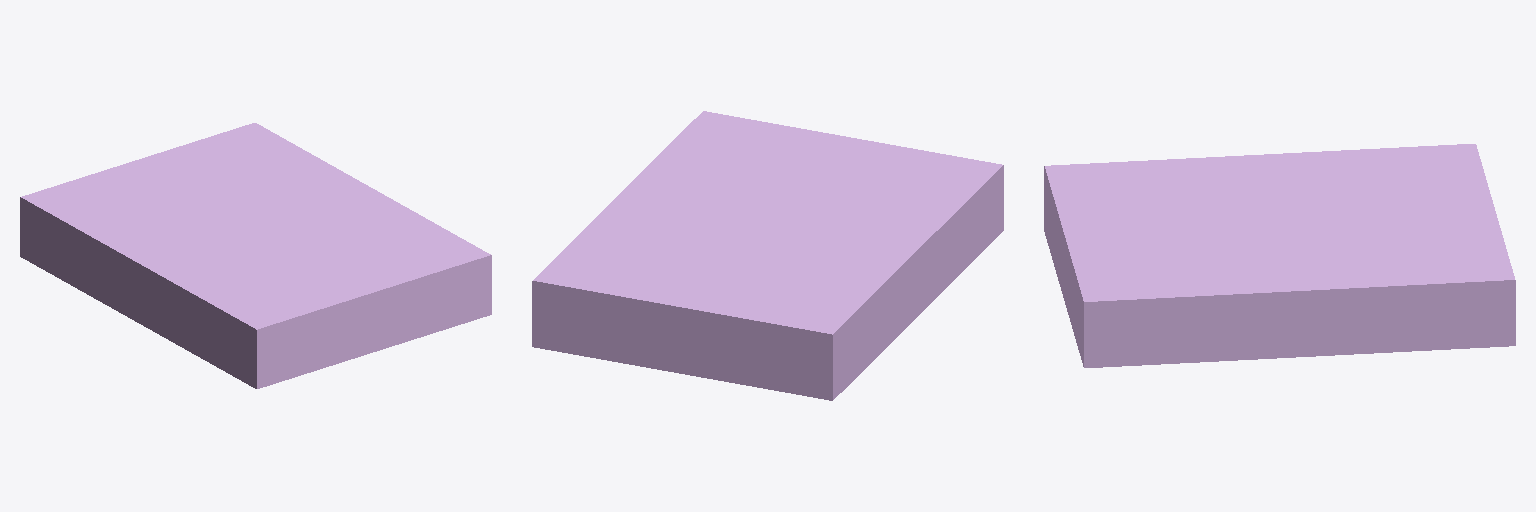
URDF robot description (Interference):
<?xml version="1.0"?>
<robot name="Interference">
  <link name="baseLink">
    <inertial>
      <origin xyz="0.0 0.0 0.0" rpy="0.0 0.0 0.0"/>
      <inertia ixx="0.0" ixy="0.0" ixz="0.0" iyy="0.0" iyz="0.0" izz="0.0"/>
      <mass value="0"/>
    </inertial>
    <visual>
      <origin xyz="0.0 0.0 0.0" rpy="0.0 0.0 -1.4489782257590922"/>
      <geometry>
        <box size="0.059465380220623976 0.04446894301128189 0.01"/>
      </geometry>
      <material name="color">
        <color rgba="0.9108075647775571 0.784072227802363 0.9677374000451617 1.0"/>
      </material>
    </visual>
  </link>
</robot>

--- Render facts (derived) ---
3 views of the same robot in one strip: view 1: azimuth 30°, elevation 25°; view 2: azimuth 150°, elevation 25°; view 3: azimuth 270°, elevation 25° (orthographic).
Model Interference with 1 links and 0 joints (none), rooted at baseLink, posed all joints at 0.
Visible links, largest first — view 1: baseLink; view 2: baseLink; view 3: baseLink.
Boxes of the visible links, x1,y1,x2,y2 form: baseLink: (20, 123, 491, 388); baseLink: (532, 111, 1003, 400); baseLink: (1044, 144, 1515, 367).
Bounding box of the posed robot: 0.0514 × 0.0644 × 0.01 m (x, y, z).
Geometry: primitives only (box / cylinder / sphere), no mesh files.